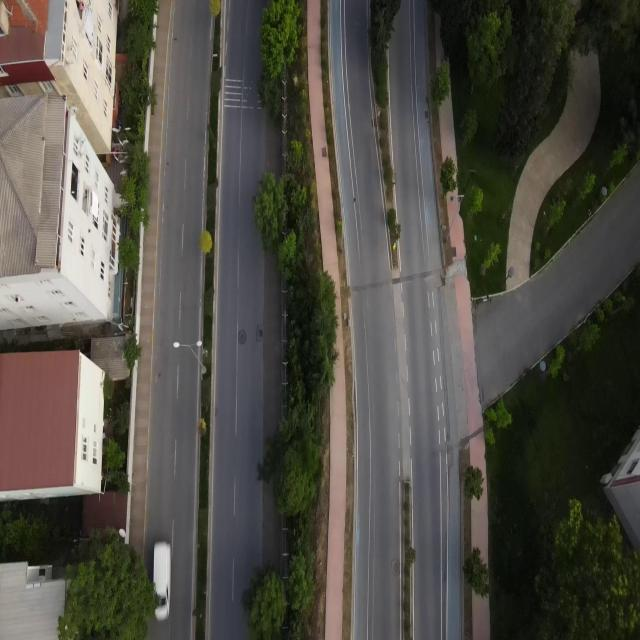p3rson: (79, 1, 85, 10)
